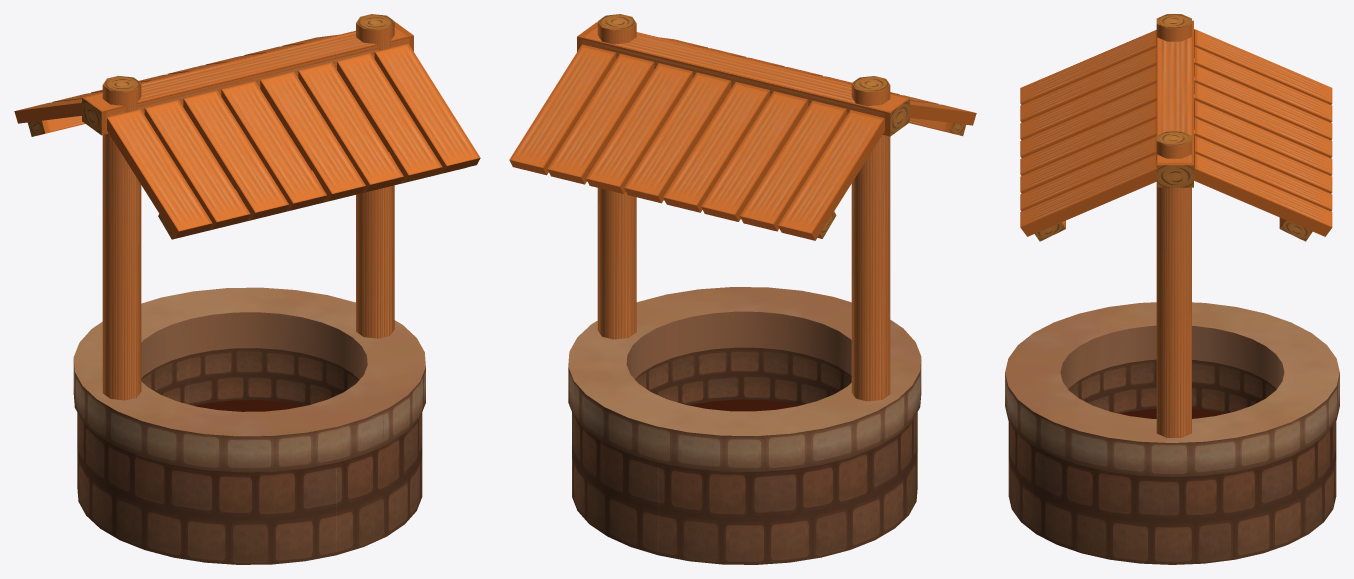
The model's file is WellHand.fbx.
3 views of the same model, side by side, from view 1: azimuth 30°, elevation 25°; view 2: azimuth 150°, elevation 25°; view 3: azimuth 270°, elevation 25° (orthographic). The views are drawn at different scales.
Parts seen in each view (by area): view 1: FencePost (1); view 2: FencePost (1); view 3: FencePost (1).
Part boxes in pixels (<box>): FencePost (1): <box>14,14,480,564</box>; FencePost (1): <box>509,14,976,564</box>; FencePost (1): <box>1005,14,1339,564</box>.
Size of the model in its own units: 0.8629 by 1.16 by 0.8442.
Materials: 3 (2 with a texture image).
